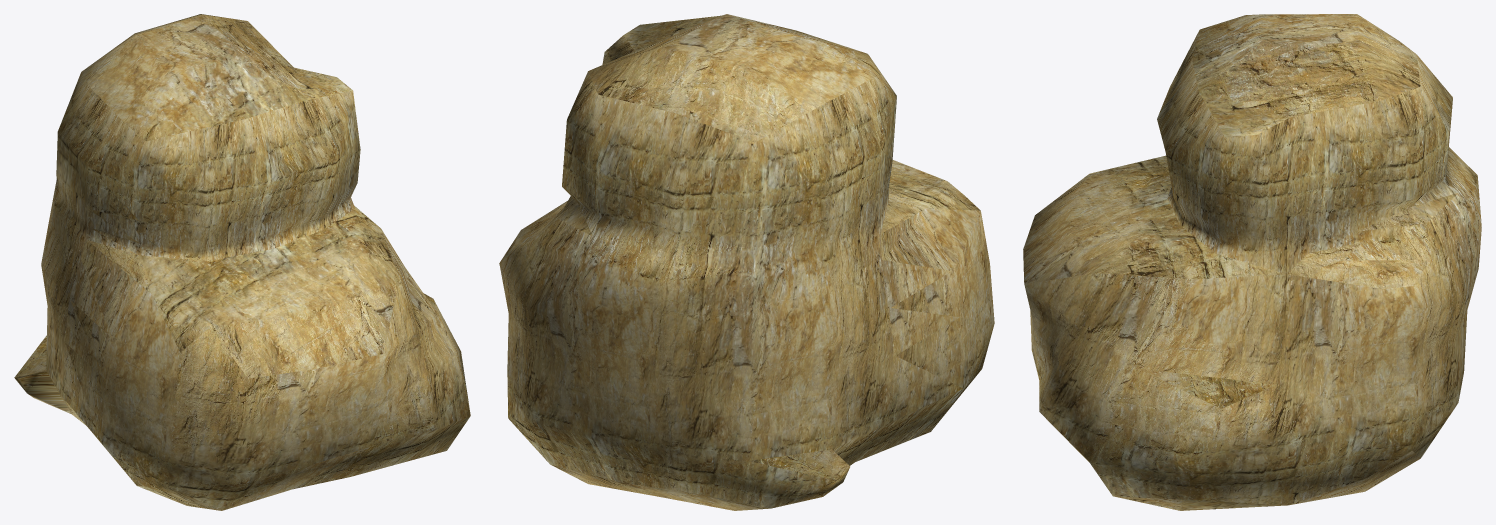
Rendered from Boulder3.dae.
3 views of the same model, side by side, from view 1: azimuth 30°, elevation 25°; view 2: azimuth 150°, elevation 25°; view 3: azimuth 270°, elevation 25° (orthographic). The views are drawn at different scales.
Parts seen in each view (by area): view 1: rock0; view 2: rock0; view 3: rock0.
Boxes of the visible parts, left/top/right/bottom form: rock0: left=14, top=14, right=470, bottom=510; rock0: left=499, top=14, right=994, bottom=510; rock0: left=1023, top=14, right=1481, bottom=510.
Bounding box in the file's own units: 1.51 × 1.62 × 1.62.
